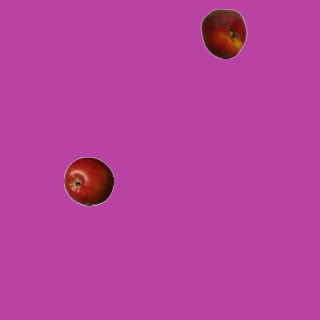Apple Braeburn: (63, 156, 113, 206)
Nectarine Flat: (198, 8, 248, 58)
